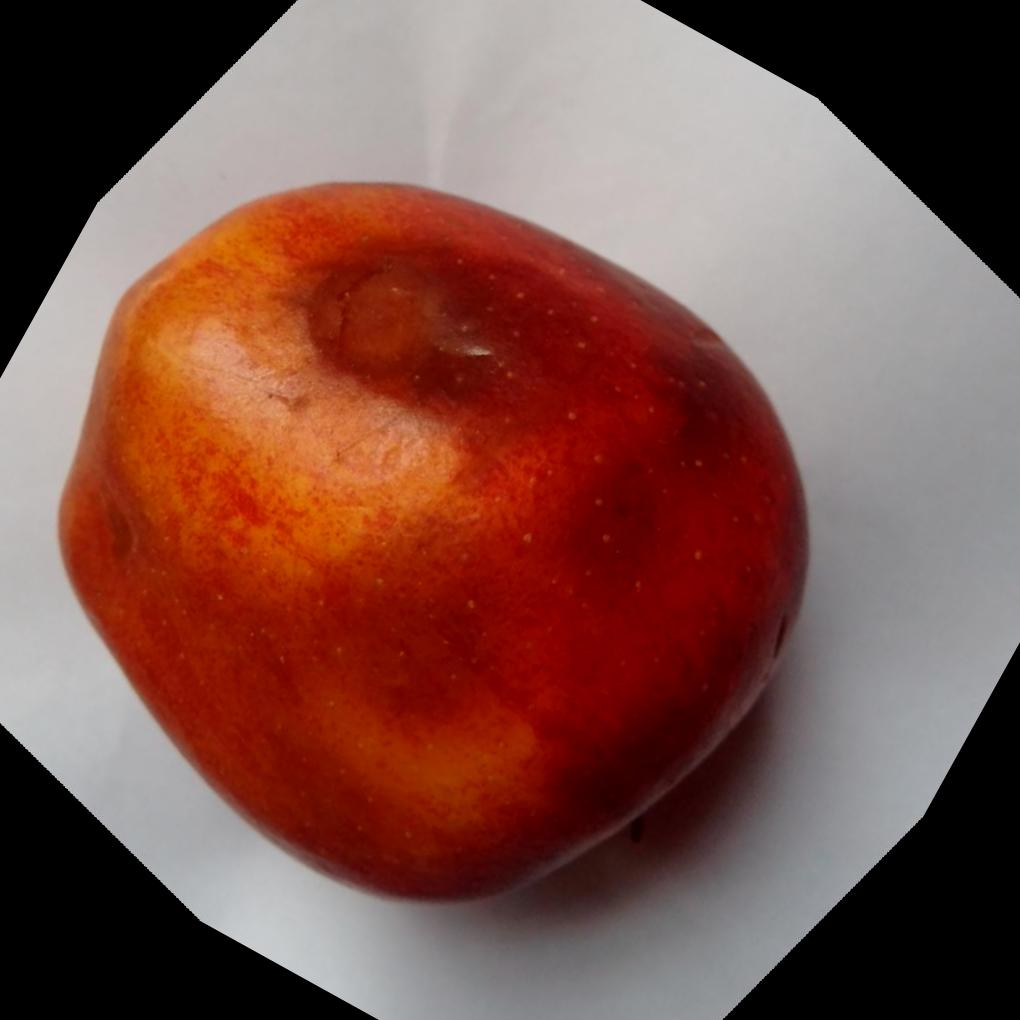FreshOrange: (57, 180, 813, 907)
